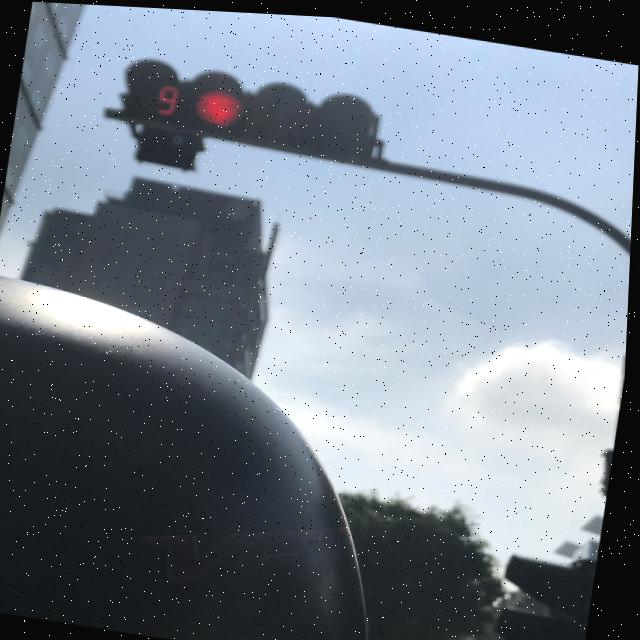Red: (177, 55, 391, 163)
